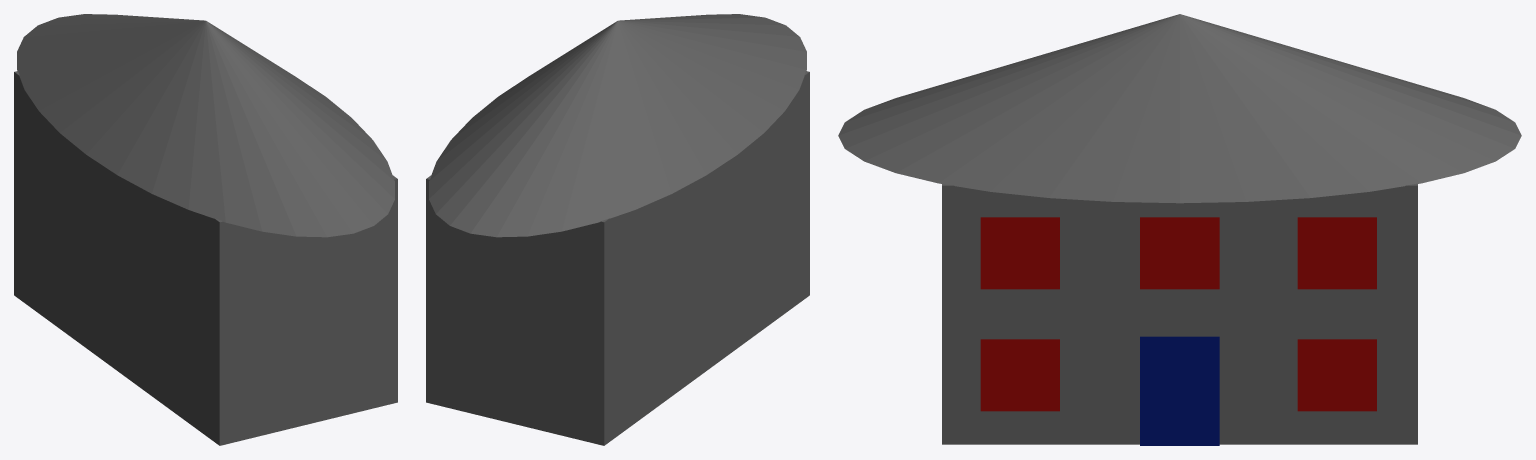
File: building 3.fbx
3 renders of one model, left to right at view 1: azimuth 30°, elevation 25°; view 2: azimuth 150°, elevation 25°; view 3: azimuth 270°, elevation 25°, orthographic. The views are drawn at different scales.
Parts seen in each view (by area): view 1: Cone, Cube.008, Cube.009; view 2: Cone, Cube.008, Cube.009; view 3: Cone, Cube.008, Cube.009, Plane.035, Plane.031, Plane.030, Plane.032, Plane.033, Plane.034.
Part boxes in pixels (x1,y1,x2,y2): Cone: (17, 14, 394, 237); Cube.008: (14, 184, 397, 445); Cube.009: (14, 71, 397, 333); Cone: (429, 14, 806, 237); Cube.008: (426, 184, 809, 445); Cube.009: (426, 71, 809, 333); Cone: (838, 14, 1521, 203); Cube.008: (942, 315, 1417, 444); Cube.009: (942, 183, 1417, 315); Plane.035: (1140, 336, 1219, 445); Plane.031: (1140, 217, 1219, 289); Plane.030: (980, 217, 1059, 289); Plane.032: (1297, 217, 1376, 289); Plane.033: (980, 339, 1059, 411); Plane.034: (1297, 339, 1376, 411).
Bounding box in the file's own units: 806 × 1060 × 1722.
